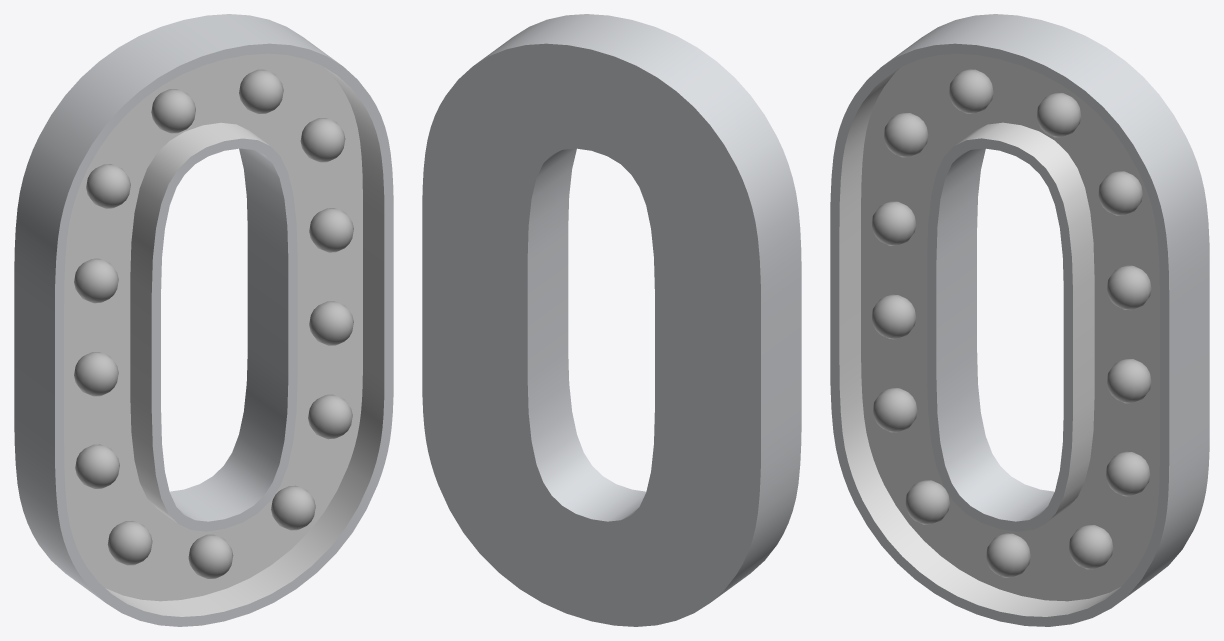
Rendered from LettersBulb01_0.FBX.
The picture shows the model from 3 angles, left to right: view 1: azimuth 30°, elevation 25°; view 2: azimuth 150°, elevation 25°; view 3: azimuth 330°, elevation 25°; orthographic projection.
Visible parts, largest first — view 1: LettersBulb01_0; view 2: LettersBulb01_0; view 3: LettersBulb01_0.
Boxes of the visible parts, x1,y1,x2,y2 form: LettersBulb01_0: (14,14,393,626); LettersBulb01_0: (422,14,801,626); LettersBulb01_0: (830,14,1209,626).
Size of what is drawn, in the model's own units: 0.7498 by 1.21 by 0.1563.
